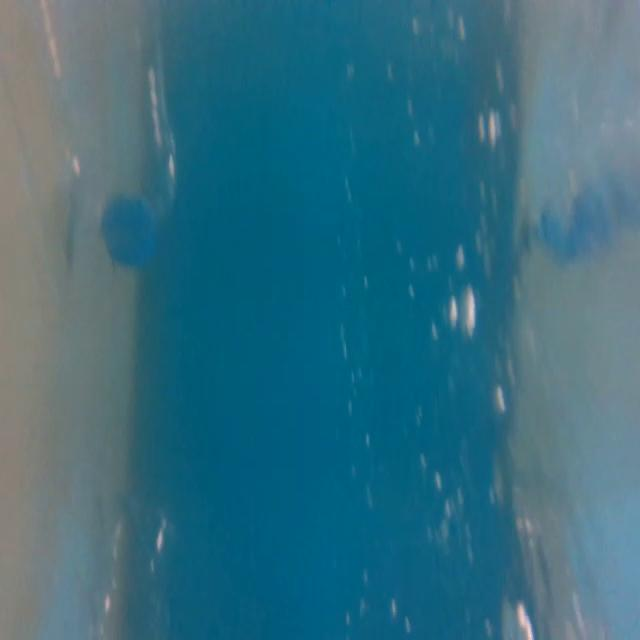plastic bottle: (25, 3, 189, 282)
